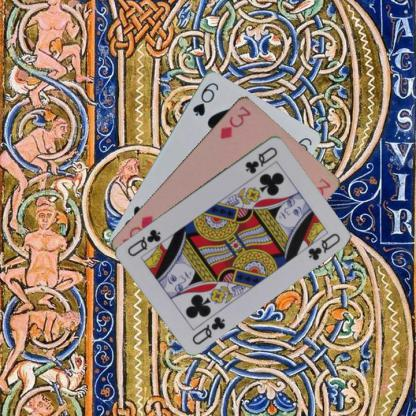3d: (217, 102, 252, 140)
6s: (190, 79, 220, 117)
Qc: (190, 313, 227, 346), (243, 144, 279, 174)
